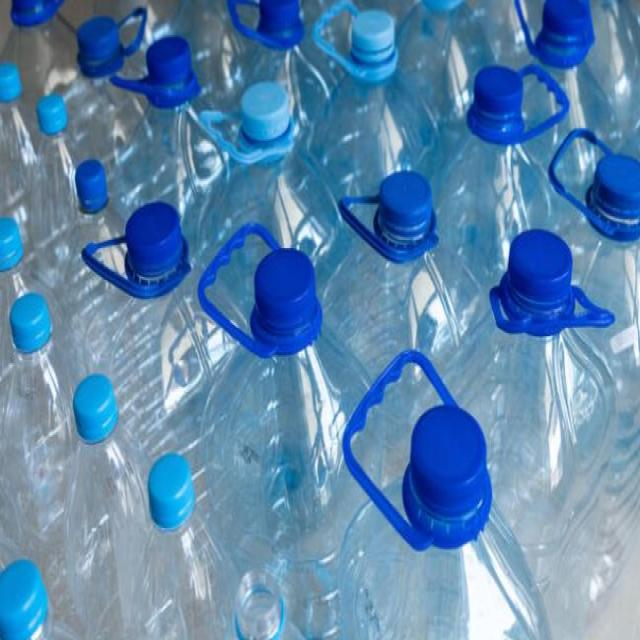general: (440, 224, 636, 638), (195, 219, 355, 637), (335, 348, 556, 638), (318, 166, 460, 412), (0, 556, 97, 638)
